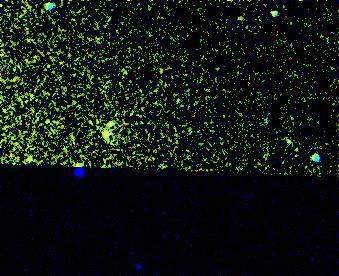star: (91, 110, 121, 140)
